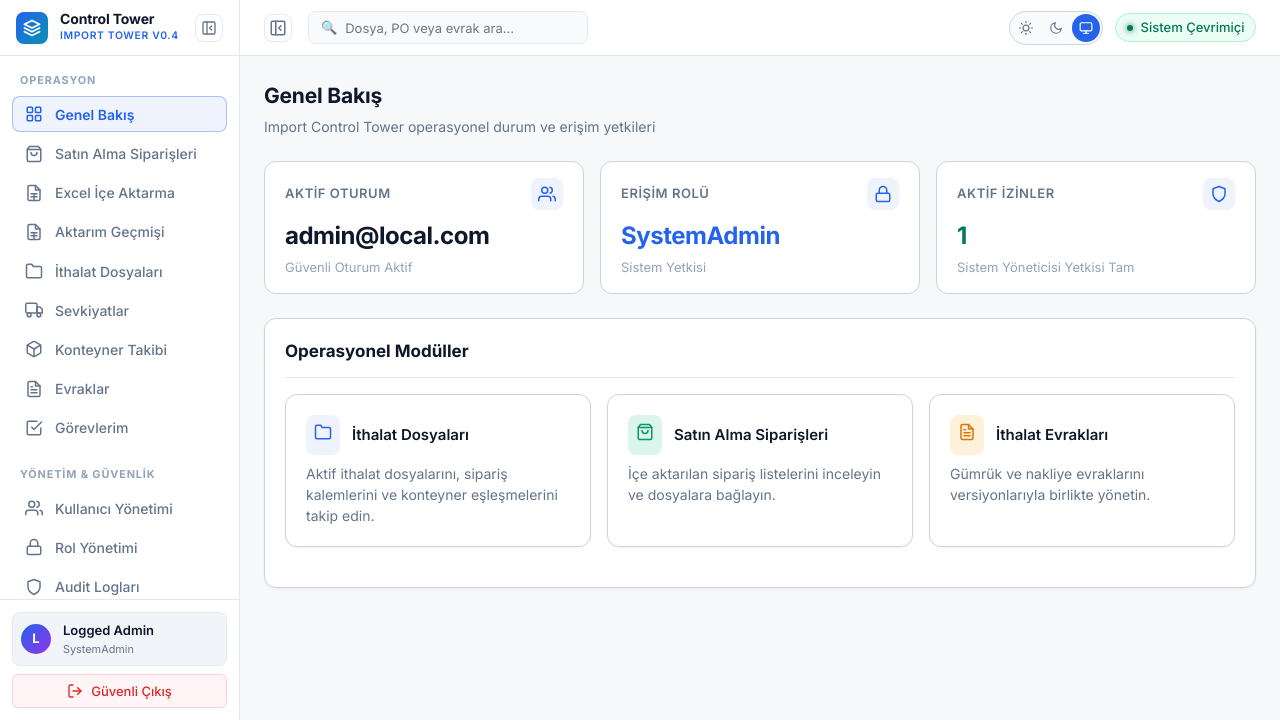
Scenario: Frontend Phase 01 Quality Control Suite › 7. Logout - clears state and redirects to LoginView
This screenshot has width=1280, height=720.
Expected: the text "Logged Admin" is shown, [63, 622, 154, 638]
Click the button "Güvenli Çıkış". click: (120, 691)
box: [12, 674, 227, 708]
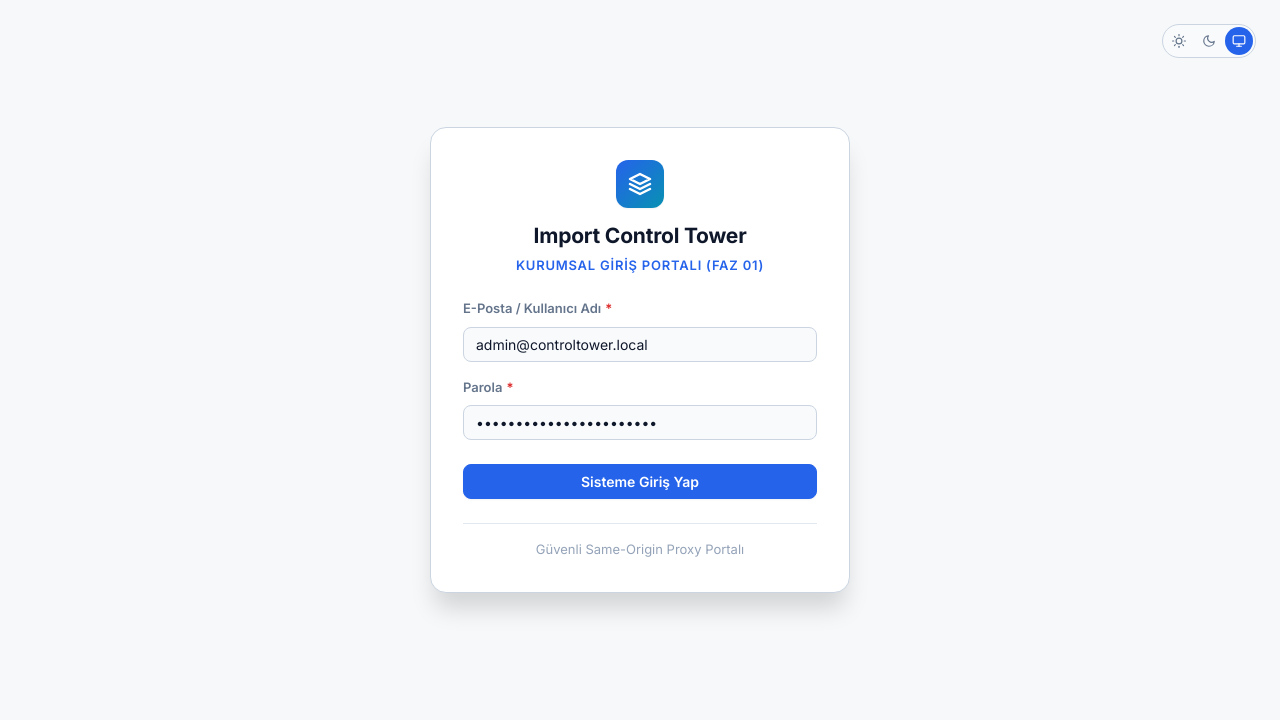
Expected: the text "Kurumsal Giriş Portalı (Faz 01)" is shown, [516, 257, 764, 273]
